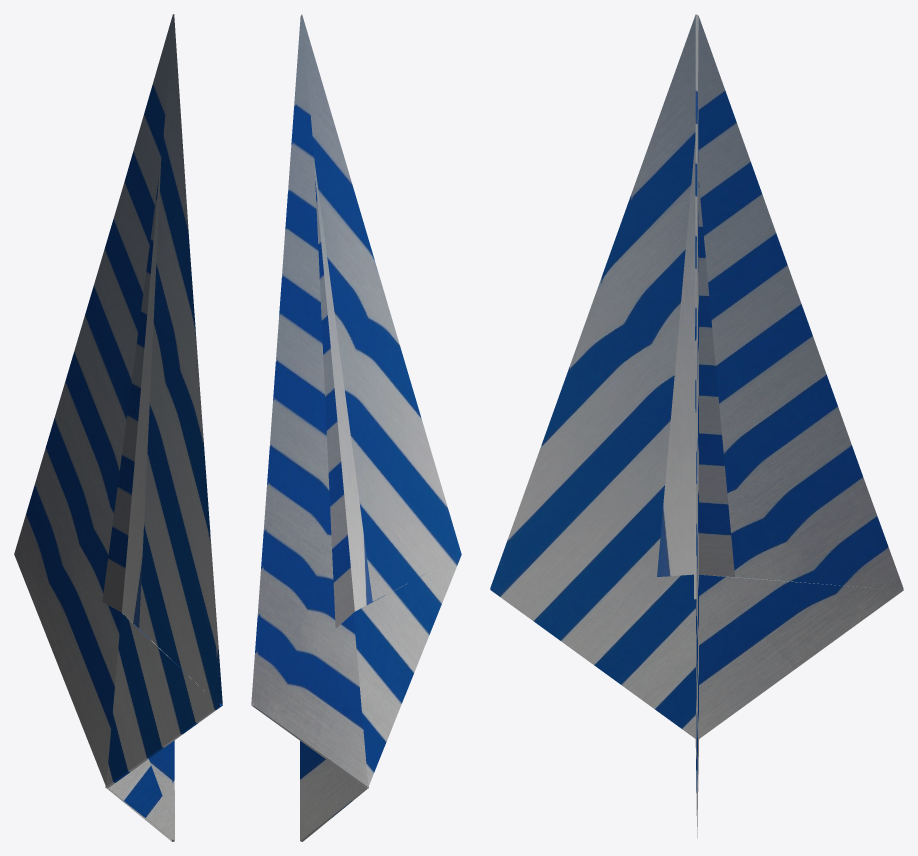
3 renders of one model, left to right at view 1: azimuth 30°, elevation 25°; view 2: azimuth 150°, elevation 25°; view 3: azimuth 270°, elevation 25°, orthographic.
Parts seen in each view (by area): view 1: Origami_Model_08.001; view 2: Origami_Model_08.001; view 3: Origami_Model_08.001.
Boxes of the visible parts, x1,y1,x2,y2 form: Origami_Model_08.001: [14, 14, 222, 841]; Origami_Model_08.001: [251, 14, 461, 841]; Origami_Model_08.001: [490, 14, 903, 838].
Bounding box in the file's own units: 0.0246 × 0.2831 × 0.1283.
Materials: 1 (1 with a texture image).
